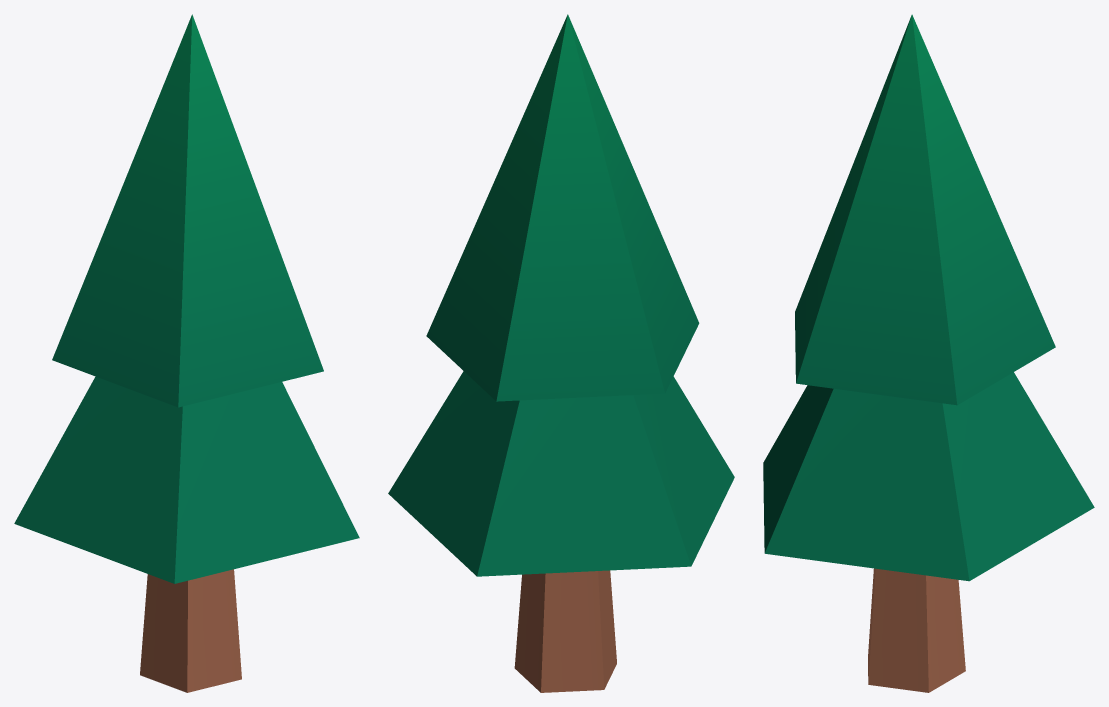
The model's file is kk_tree_A.glb.
3 renders of one model, left to right at view 1: azimuth 30°, elevation 25°; view 2: azimuth 150°, elevation 25°; view 3: azimuth 270°, elevation 25°, orthographic.
Parts seen in each view (by area): view 1: tree_single_A; view 2: tree_single_A; view 3: tree_single_A.
Part boxes in pixels (<box>): tree_single_A: <box>14,14,359,692</box>; tree_single_A: <box>388,14,734,692</box>; tree_single_A: <box>763,14,1094,692</box>.
Size of the model in its own units: 0.574 by 1.2 by 0.547.
1 material, 1 textured.
